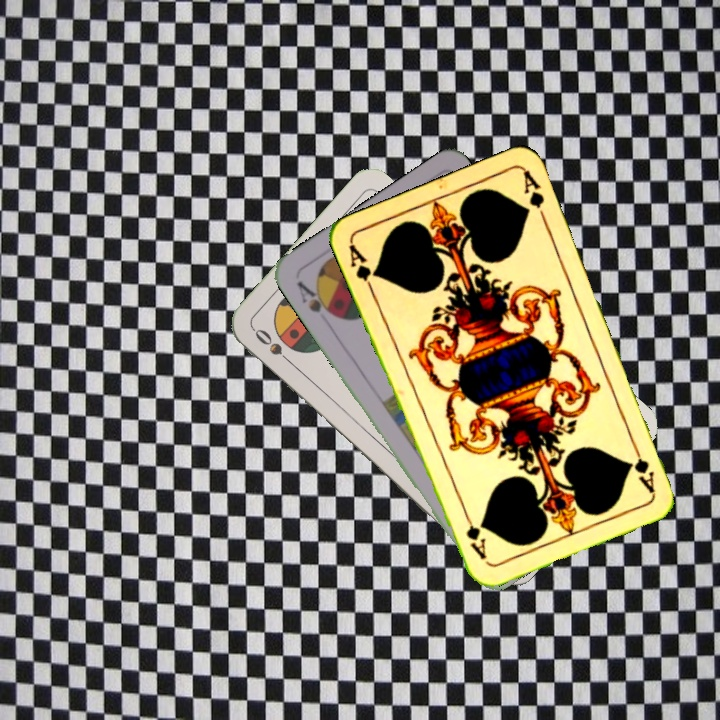GA: (344, 240, 380, 296), (628, 438, 657, 495)
SA: (292, 276, 340, 321)
SO: (249, 324, 298, 369)
